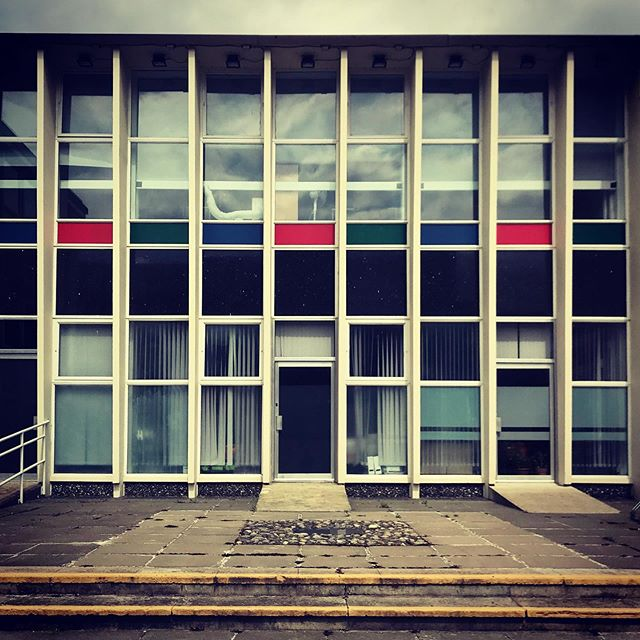building: (1, 1, 625, 497)
door: (270, 365, 334, 487), (491, 360, 555, 482)
